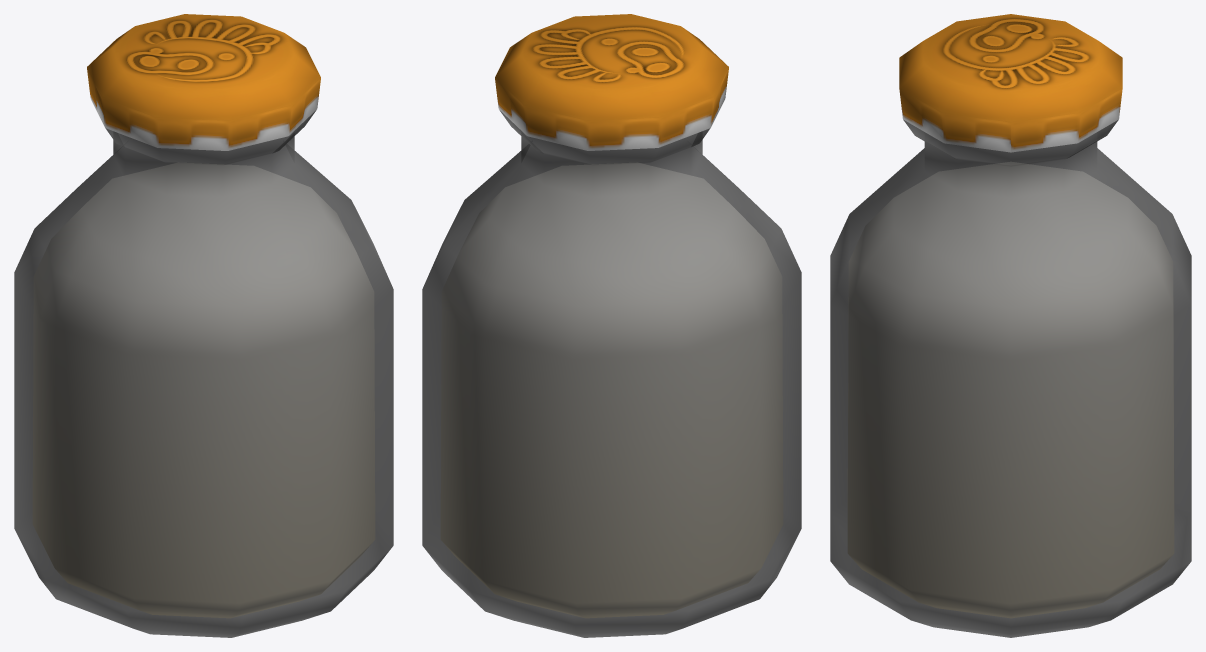
The model's file is obj_consumable_milk.fbx.
3 views of the same model, side by side, from view 1: azimuth 30°, elevation 25°; view 2: azimuth 150°, elevation 25°; view 3: azimuth 270°, elevation 25° (orthographic).
Visible parts, largest first — view 1: obj_consumable_milk; view 2: obj_consumable_milk; view 3: obj_consumable_milk.
Boxes of the visible parts, bbox=[...] form: obj_consumable_milk: bbox=[14, 14, 393, 637]; obj_consumable_milk: bbox=[422, 14, 801, 637]; obj_consumable_milk: bbox=[830, 14, 1191, 637].
Size of the model in its own units: 1.29 by 1.99 by 1.23.
